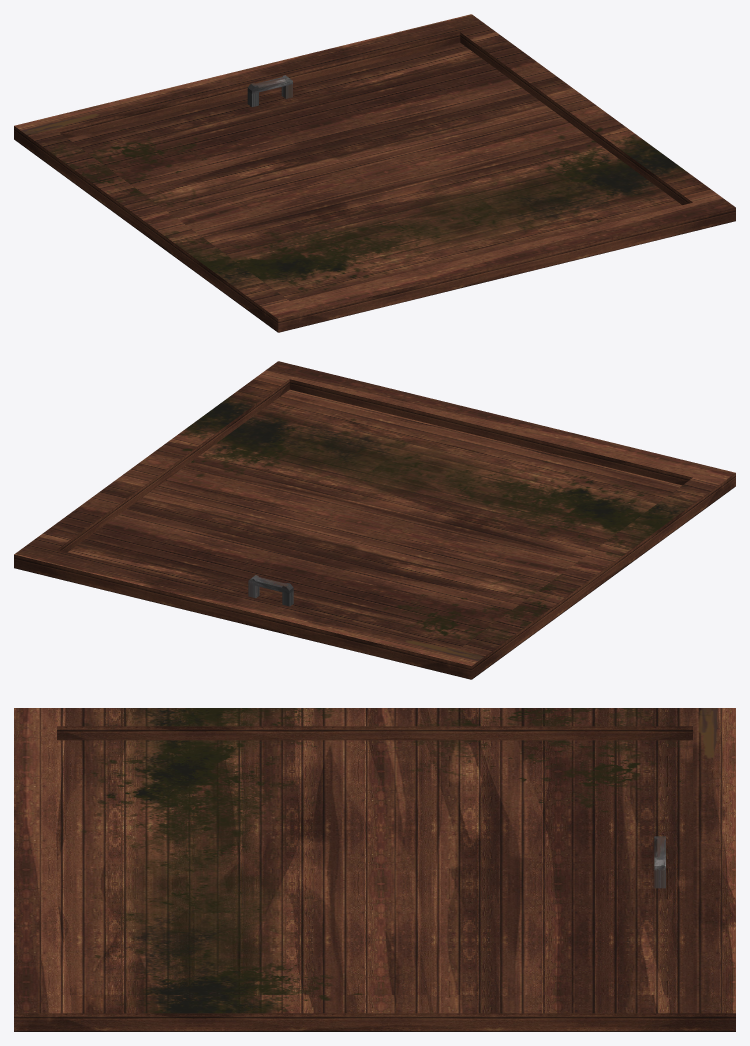
The model's file is trap_door.fbx.
3 views of the same model, one above another, from view 1: azimuth 30°, elevation 25°; view 2: azimuth 150°, elevation 25°; view 3: azimuth 270°, elevation 25° (orthographic). The views are drawn at different scales.
Visible parts, largest first — view 1: polySurface284; view 2: polySurface284; view 3: polySurface284.
Part boxes in pixels (box(x1,y1,x2,y2)): polySurface284: box(14, 14, 735, 332); polySurface284: box(14, 361, 735, 679); polySurface284: box(14, 708, 735, 1031).
Size of the model in its own units: 2.48 by 0.1185 by 2.48.
Materials: 2 (2 with a texture image).
